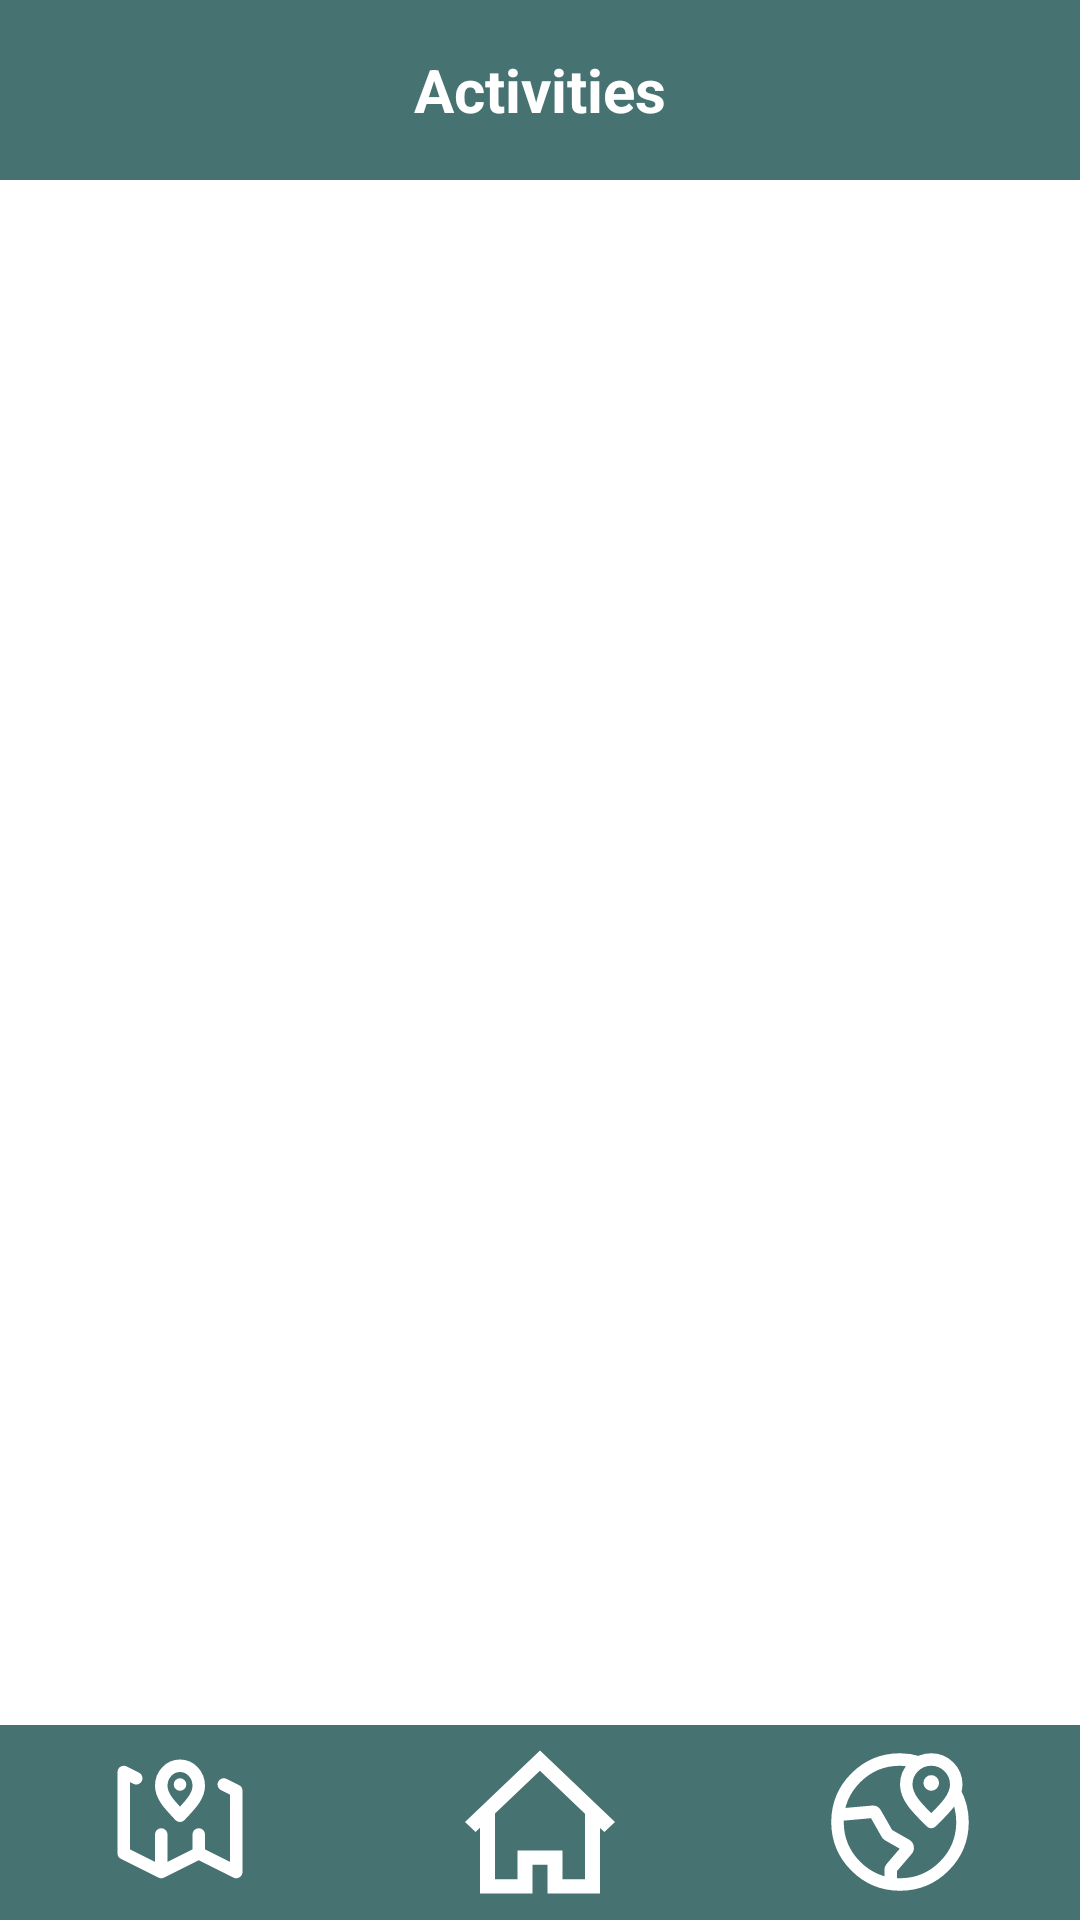

Where icons sit on this 1080 × 1920 app screen, as {"x1": x1, "y1": y1, "x2": x2, "y2": y2}:
Globe: {"x1": 831, "y1": 1753, "x2": 969, "y2": 1891}
Home: {"x1": 465, "y1": 1750, "x2": 615, "y2": 1894}
Map: {"x1": 117, "y1": 1759, "x2": 243, "y2": 1879}
